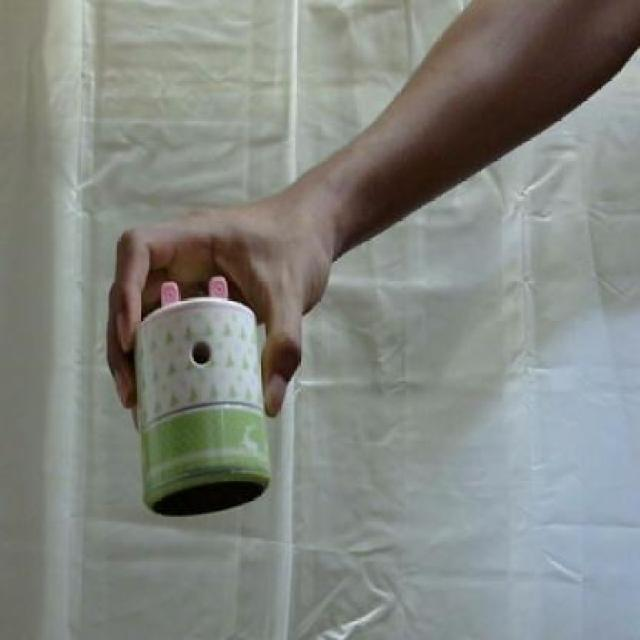Plastic: (134, 297, 271, 519)
